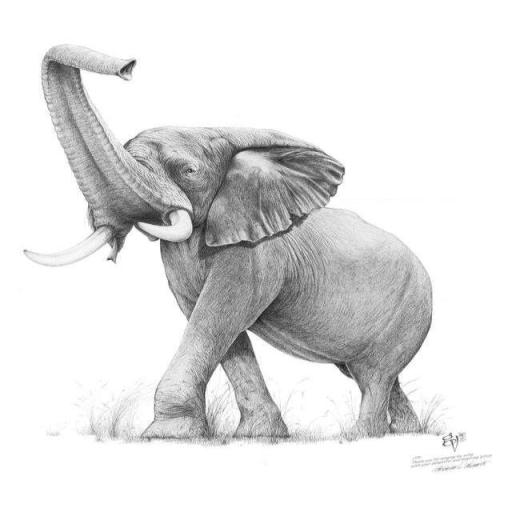Elephant: (22, 42, 434, 441)
